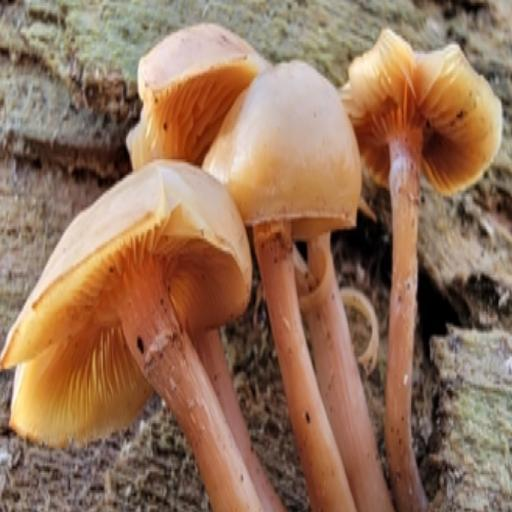mushroom: (4, 24, 504, 505)
